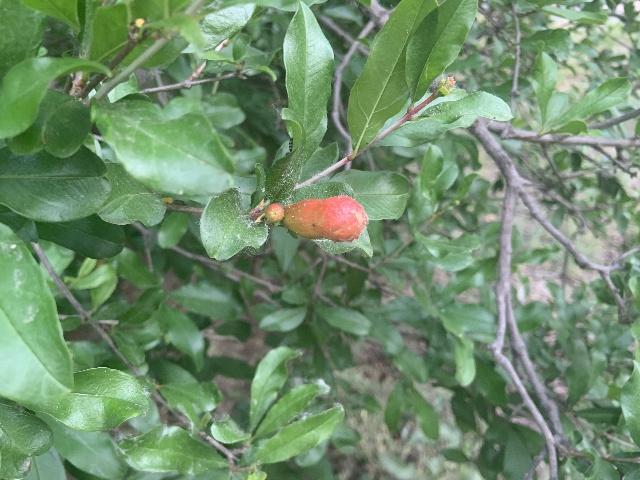bud: (283, 195, 367, 242), (264, 203, 284, 223)
